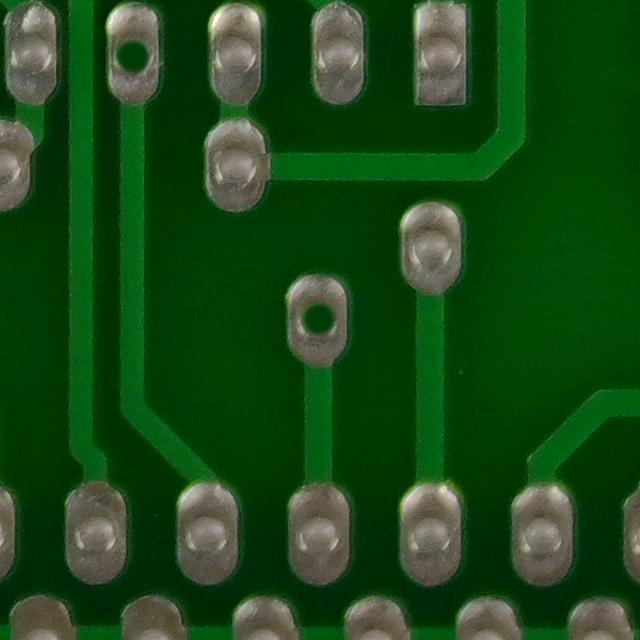missing_hole: (279, 280, 358, 362), (99, 17, 170, 98)
